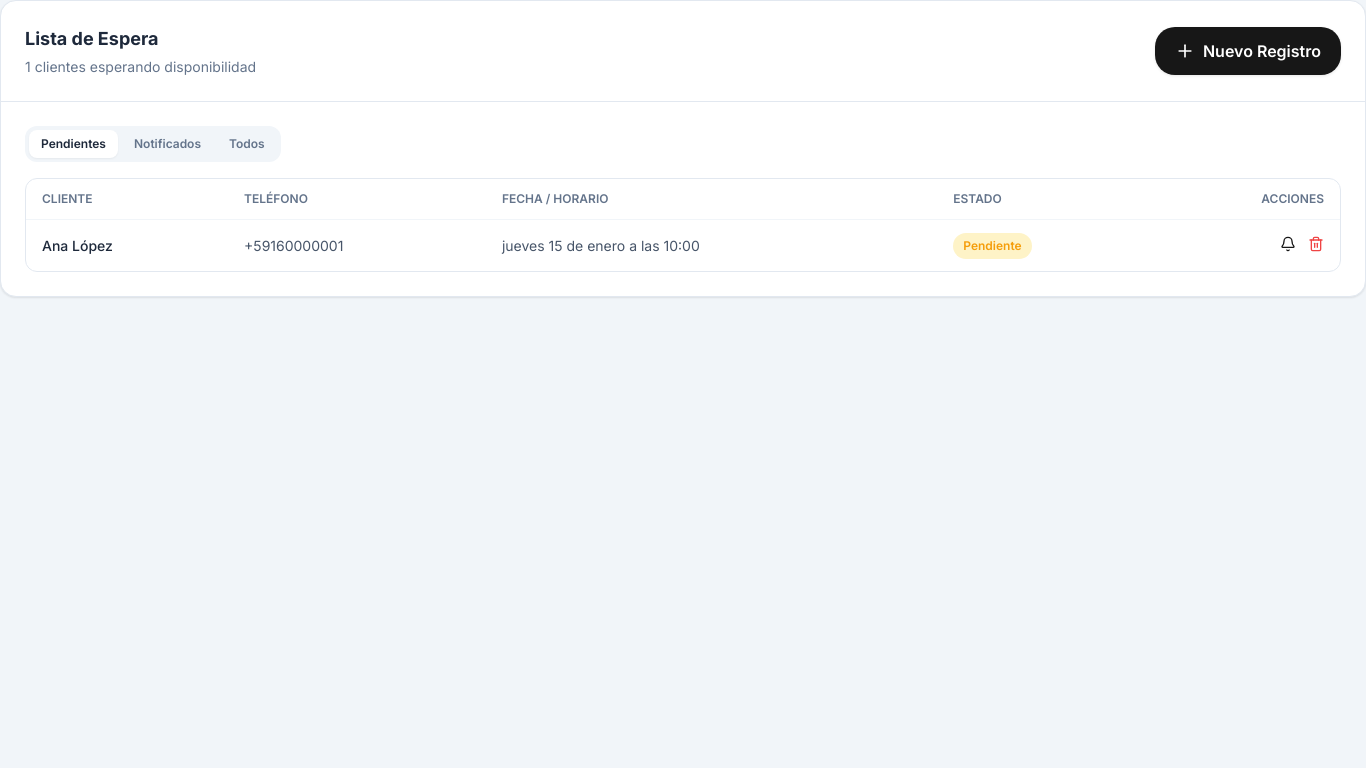
Scenario: WaitlistContainer › toggles the add form when the toggle button is clicked
What coordinates should you click on to do the following:
click the button "Nuevo Registro"
I would click on:
 (1248, 51)
Its box is 1155,27 -> 1341,75.
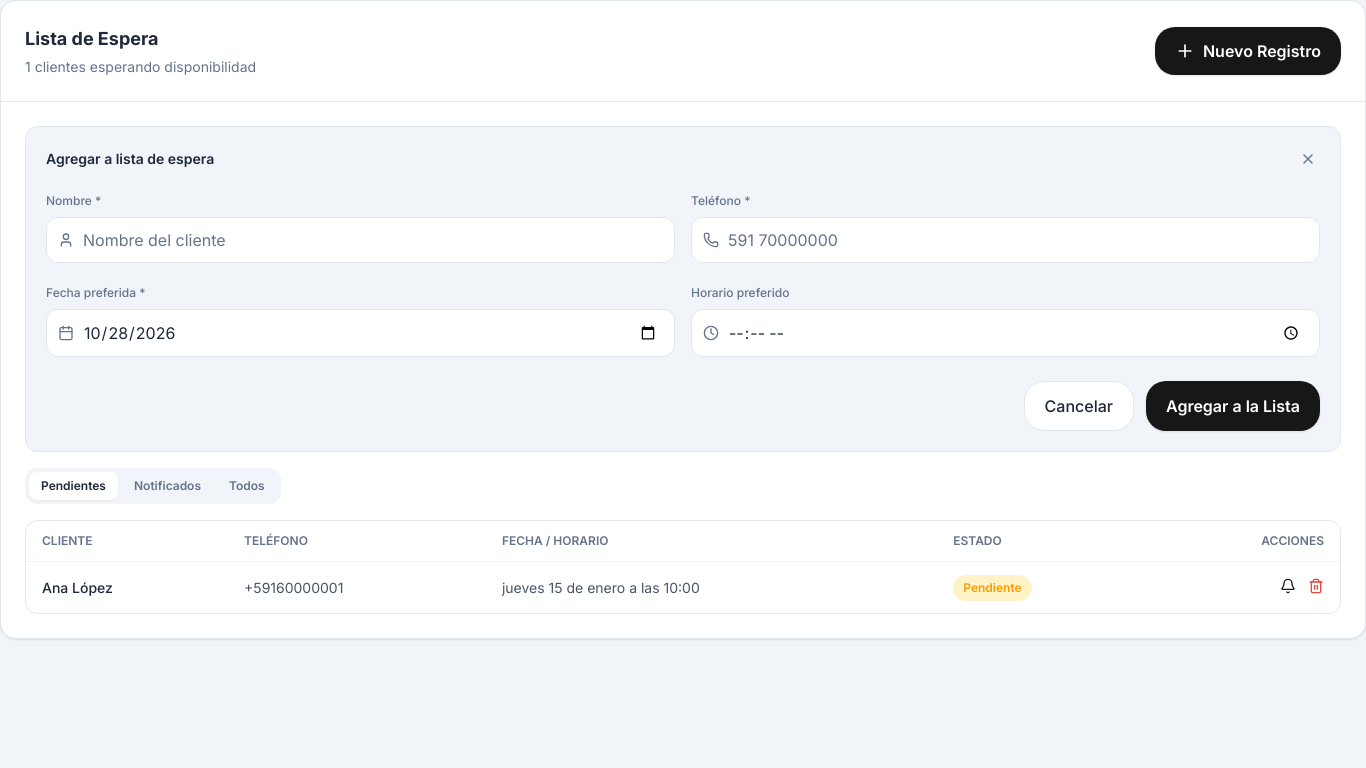
Expected: the heading "Agregar a lista de espera" is shown, 46,149 -> 214,169
